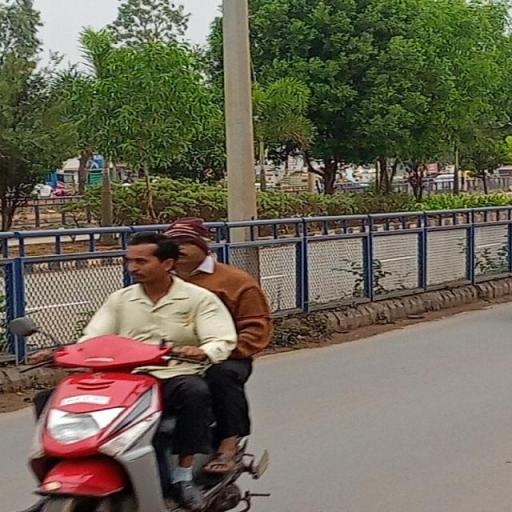bike: (9, 217, 290, 512)
withouthelmet: (124, 230, 177, 284), (172, 224, 204, 268)
